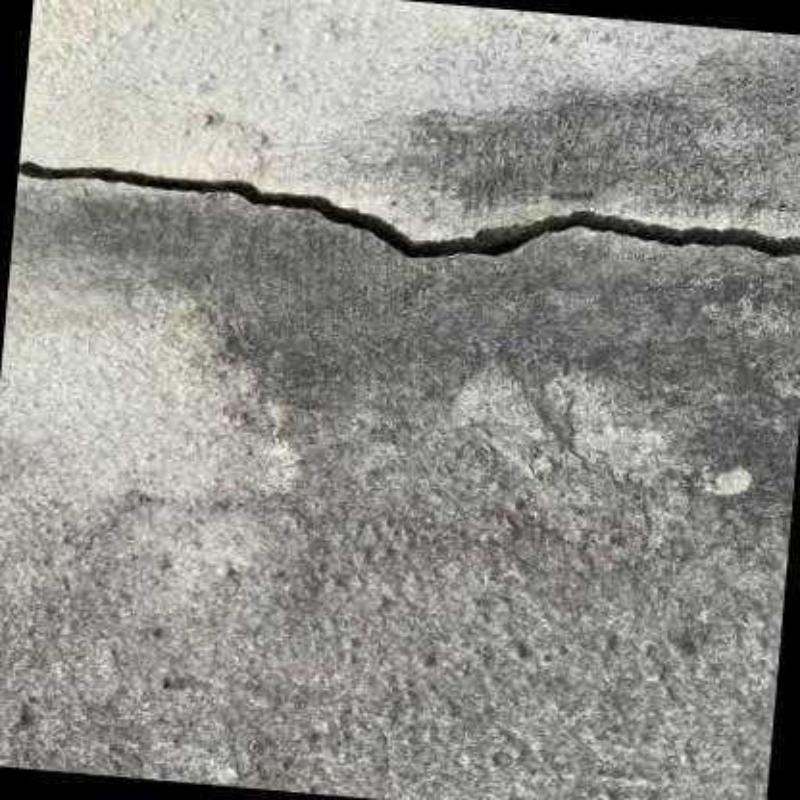pothole: (21, 160, 798, 261)
